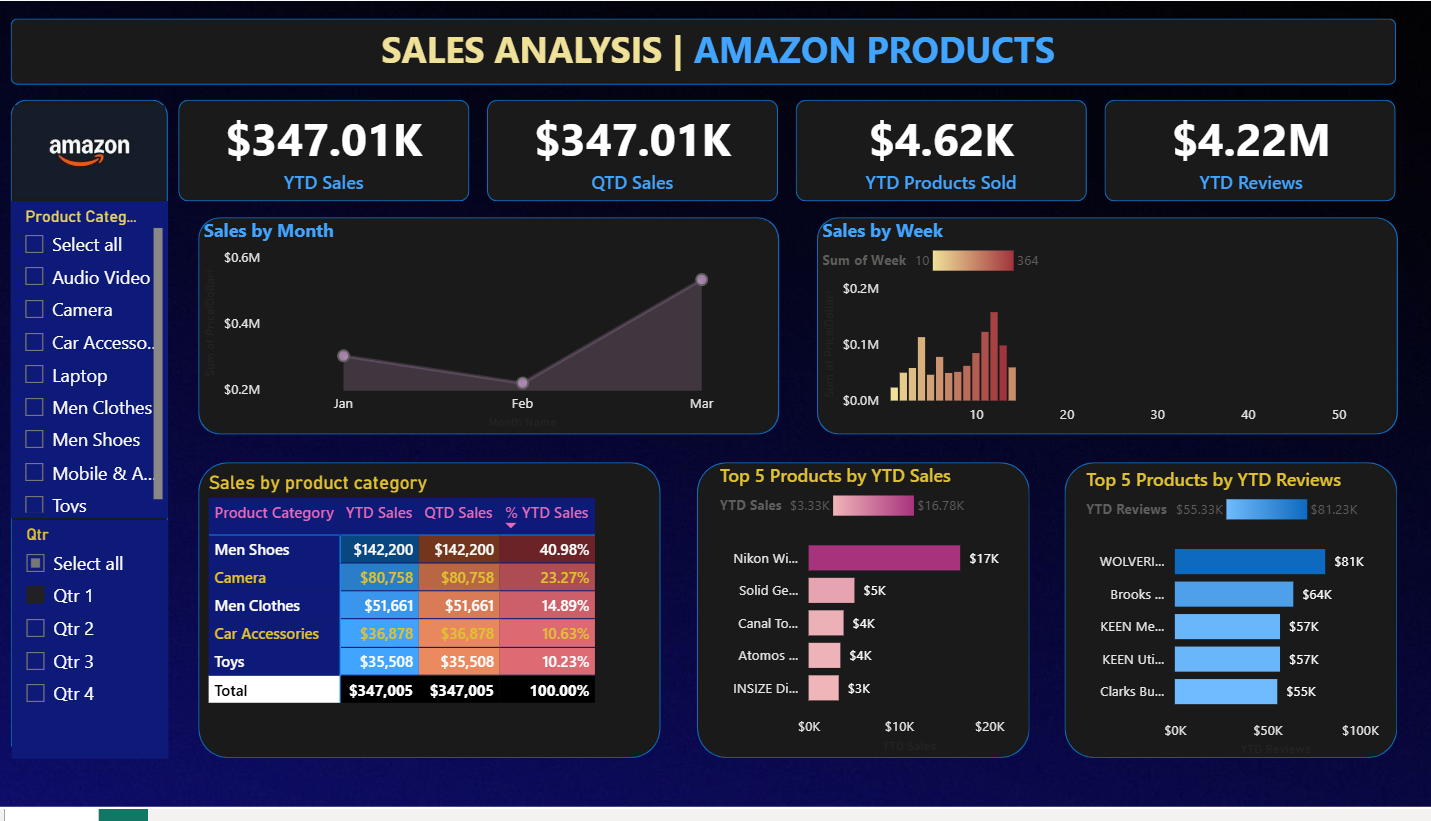

What the dashboard file says about the page in this screenshot:
{"tool":"powerbi","page":{"name":"Page 1","canvas":[1280,720],"ordinal":0},"visuals":[{"type":"shape","box":[711.7,87.8,259.3,90.6],"z":0,"group":"g1"},{"type":"shape","box":[179.8,192.1,517.3,193.5],"z":0},{"type":"shape","box":[12.3,15.1,1233.6,59],"z":1000},{"type":"shape","box":[12.3,87.8,140,585.9],"z":2000},{"type":"shape","box":[161.9,87.8,259.3,90.6],"z":3000,"group":"g1"},{"type":"textbox","box":[337.6,15.1,702.6,59],"z":3000},{"type":"card","fields":{"Values":["Amazon_Data.YTD Sales"]},"box":[161.9,87.8,259.3,90.6],"z":4000,"group":"g1"},{"type":"group","id":"g1","title":"Group 1","box":[161.9,87.8,1085.4,90.6],"z":4000},{"type":"shape","box":[436.8,87.8,259.3,90.6],"z":5000,"group":"g1"},{"type":"areaChart","title":"Sales by Month ","fields":{"Category":["Date Table.Month Name"],"Y":["Sum(Amazon_Data.Price(Dollar))"]},"box":[179.8,192.1,517.3,193.5],"z":5000},{"type":"shape","box":[986.6,87.8,259.3,90.6],"z":6000,"group":"g1"},{"type":"shape","box":[730,192.1,517.3,193.5],"z":6000},{"type":"card","fields":{"Values":["Amazon_Data.QTD Sales"]},"box":[436.3,87.8,259.3,90.6],"z":7000,"group":"g1"},{"type":"columnChart","title":"Sales by Week","fields":{"Category":["Date Table.Week"],"Y":["Sum(Amazon_Data.Price(Dollar))"]},"box":[730,192.1,517.3,193.5],"z":7000},{"type":"card","fields":{"Values":["Amazon_Data.YTD Products Sold"]},"box":[712.2,87.8,259.3,90.6],"z":8000,"group":"g1"},{"type":"shape","box":[179.8,410.3,411.7,263.5],"z":8000},{"type":"card","fields":{"Values":["Amazon_Data.YTD Reviews"]},"box":[988,87.8,259.3,90.6],"z":9000,"group":"g1"},{"type":"pivotTable","title":"Sales by product category","fields":{"Rows":["Amazon_Data.Product Category"],"Values":["Amazon_Data.YTD Sales1","Amazon_Data.QTD Sales","Amazon_Data.YTD Sales"]},"box":[183.9,418.5,402.1,255.2],"z":9000},{"type":"shape","box":[623,410.3,296.4,263.5],"z":10000},{"type":"shape","box":[950.9,410.3,296.4,263.5],"z":11000},{"type":"clusteredBarChart","title":"Top 5 Products by YTD Sales","fields":{"Category":["Amazon_Data.Product Description"],"Y":["Amazon_Data.YTD Sales"]},"box":[639.5,410.3,282.7,263.5],"z":12000},{"type":"clusteredBarChart","title":"Top 5 Products by YTD Reviews","fields":{"Category":["Amazon_Data.Product Description"],"Y":["Amazon_Data.YTD Reviews"]},"box":[964.7,414.4,282.7,263.5],"z":13000},{"type":"slicer","fields":{"Values":["Amazon_Data.Product Category"]},"box":[12.3,178.4,140,282.7],"z":14000},{"type":"slicer","fields":{"Values":["Date Table.Qtr"]},"box":[12.3,461.1,138.6,212.7],"z":15000},{"type":"image","box":[1.4,87.8,161.9,93.3],"z":16000}]}

Visuals, with their boxes in screenshot pixels (x1, y1, x2, y2), scaled from the page's 1280x720 canvas onto the 1431x821 screenshot:
shape: region(796, 100, 1086, 203)
shape: region(201, 219, 779, 440)
shape: region(14, 17, 1393, 84)
shape: region(14, 100, 170, 768)
shape: region(181, 100, 471, 203)
textbox: region(377, 17, 1163, 84)
card - Amazon_Data.YTD Sales: region(181, 100, 471, 203)
"Group 1" group: region(181, 100, 1394, 203)
shape: region(488, 100, 778, 203)
"Sales by Month " areaChart: region(201, 219, 779, 440)
shape: region(1103, 100, 1393, 203)
shape: region(816, 219, 1394, 440)
card - Amazon_Data.QTD Sales: region(488, 100, 778, 203)
"Sales by Week" columnChart: region(816, 219, 1394, 440)
card - Amazon_Data.YTD Products Sold: region(796, 100, 1086, 203)
shape: region(201, 468, 661, 768)
card - Amazon_Data.YTD Reviews: region(1105, 100, 1394, 203)
"Sales by product category" pivotTable: region(206, 477, 655, 768)
shape: region(696, 468, 1028, 768)
shape: region(1063, 468, 1394, 768)
"Top 5 Products by YTD Sales" clusteredBarChart: region(715, 468, 1031, 768)
"Top 5 Products by YTD Reviews" clusteredBarChart: region(1079, 473, 1395, 773)
slicer - Amazon_Data.Product Category: region(14, 203, 170, 526)
slicer - Date Table.Qtr: region(14, 526, 169, 768)
image: region(2, 100, 183, 207)
